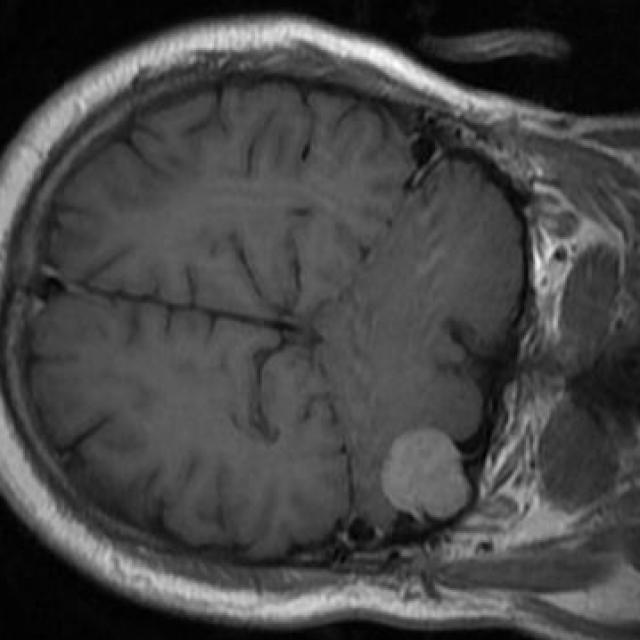meningioma: (382, 430, 471, 517)
